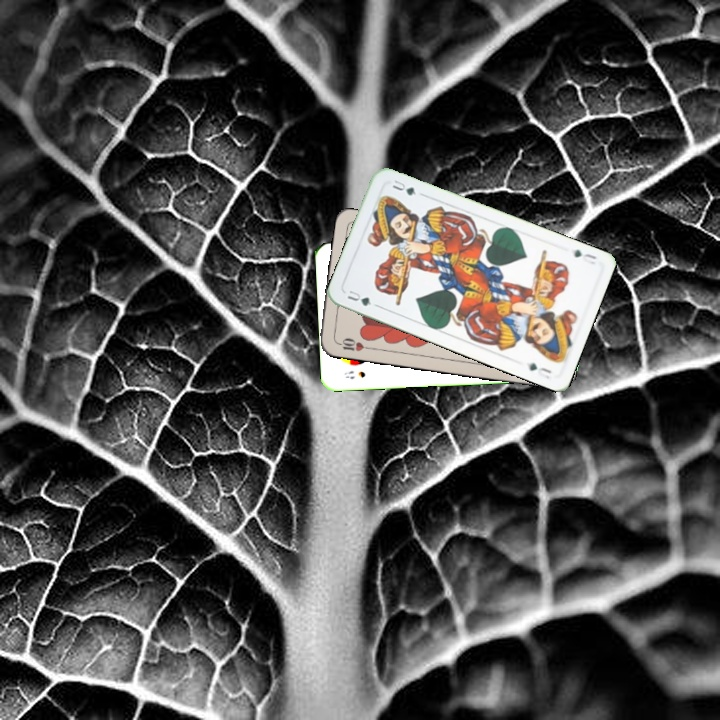GU: (343, 286, 374, 309), (567, 245, 599, 267)
H10: (333, 334, 373, 354)
S8: (340, 367, 367, 381)
